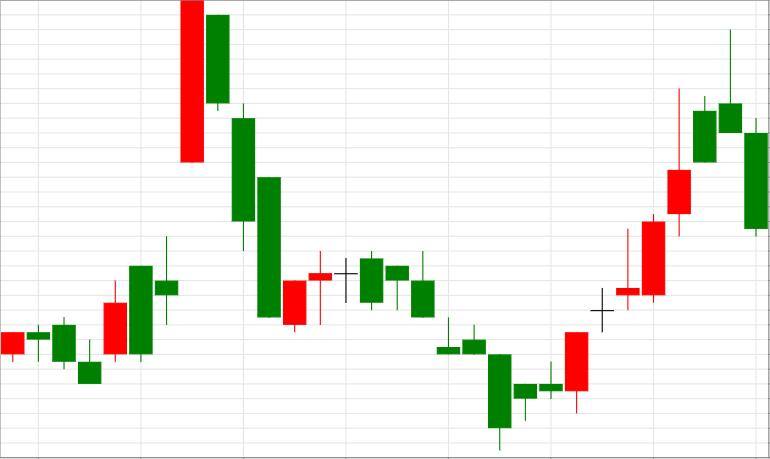shooting_star_fall: (564, 29, 743, 414)
